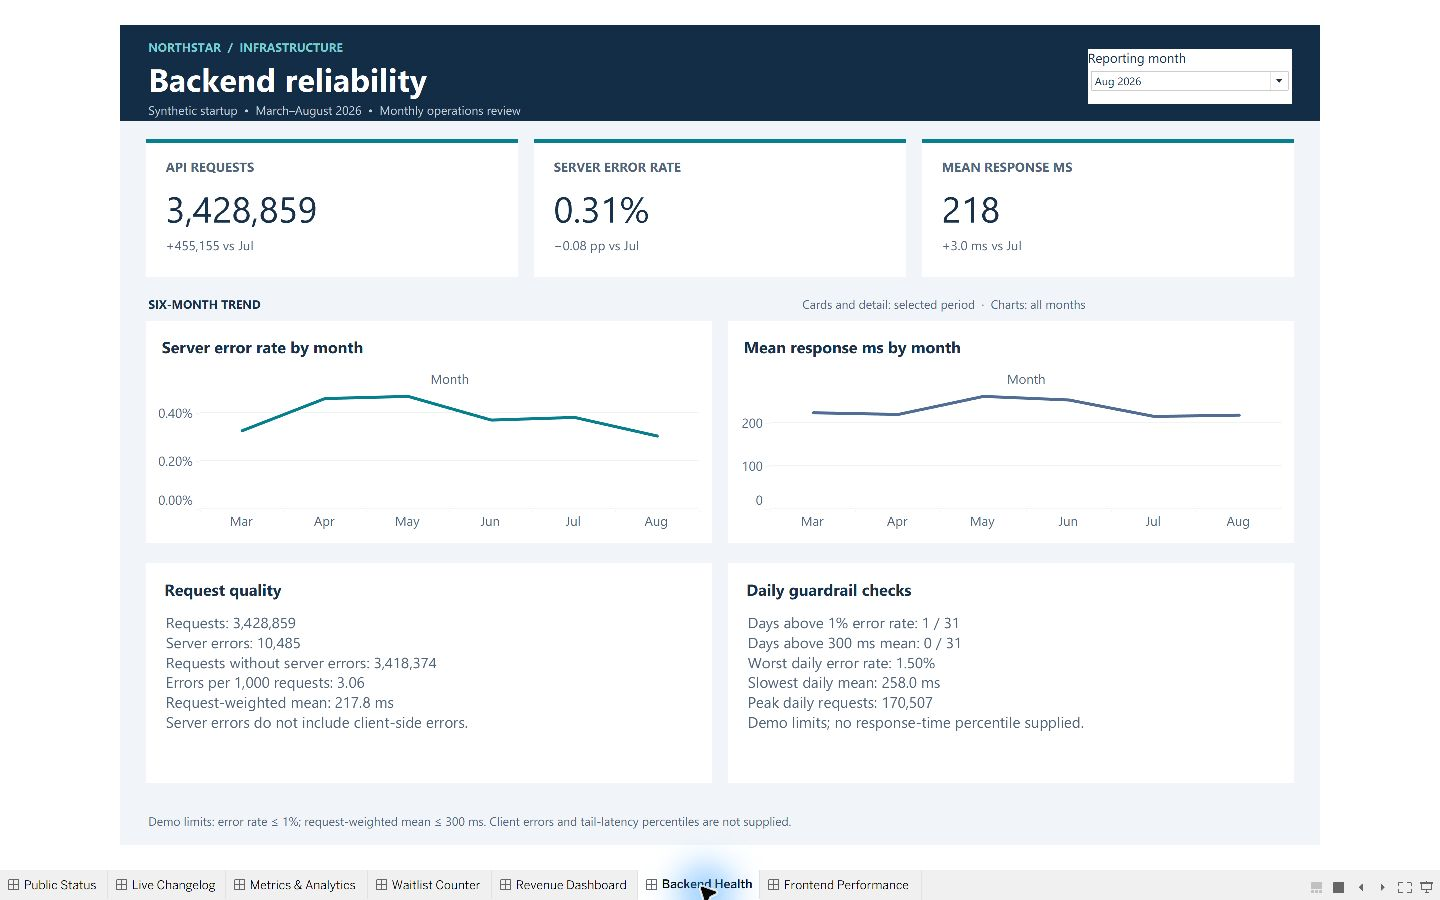

This screenshot's page, from the dashboard's own definition file:
{"tool":"tableau","page":{"name":"Backend Health","canvas":[1200,820],"ordinal":0},"visuals":[{"type":"text","box":[0,0,1200,820]},{"type":"text","box":[0,0,1200,96]},{"type":"text","box":[26,12,800,20]},{"type":"parameter","param":"[Parameters].[Period]","box":[968,24,204,55]},{"type":"text","box":[26,34,830,40]},{"type":"text","box":[26,76,840,18]},{"type":"text","box":[26,114,372,138]},{"type":"text","box":[26,114,372,4]},{"type":"text","box":[414,114,372,138]},{"type":"text","box":[414,114,372,4]},{"type":"text","box":[802,114,372,138]},{"type":"text","box":[802,114,372,4]},{"type":"worksheet","title":"06 KPI 1 API requests","mark":"Text","box":[42,129,340,74]},{"type":"worksheet","title":"06 KPI 2 Server error rate","mark":"Text","box":[430,129,340,74]},{"type":"worksheet","title":"06 KPI 3 Mean response ms","mark":"Text","box":[818,129,340,74]},{"type":"worksheet","title":"D06 delta 1","mark":"Text","box":[42,211,340,29]},{"type":"worksheet","title":"D06 delta 2","mark":"Text","box":[430,211,340,29]},{"type":"worksheet","title":"D06 delta 3","mark":"Text","box":[818,211,340,29]},{"type":"text","box":[26,268,500,22]},{"type":"text","box":[680,268,492,22]},{"type":"text","box":[26,296,566,222]},{"type":"text","box":[608,296,566,222]},{"type":"worksheet","title":"06 Trend 1","mark":"Line","rows":["history_errors"],"cols":["Month"],"box":[38,307,542,199]},{"type":"worksheet","title":"06 Trend 2","mark":"Line","rows":["history_latency"],"cols":["Month"],"box":[620,307,542,199]},{"type":"text","box":[26,538,566,220]},{"type":"text","box":[608,538,566,220]},{"type":"text","box":[42,551,534,28]},{"type":"text","box":[624,551,534,28]},{"type":"worksheet","title":"D06 detail 1","mark":"Text","box":[42,587,534,157]},{"type":"worksheet","title":"D06 detail 2","mark":"Text","box":[624,587,534,157]},{"type":"text","box":[26,776,1144,40]}]}

Visuals, with their boxes on the page's 1200x820 design canvas (x1, y1, x2, y2). These are canvas units, not pixel positions in the 1440x900 screenshot, which may show the page scaled, cropped or inside an application window:
text: crop(0, 0, 1200, 820)
text: crop(0, 0, 1200, 96)
text: crop(26, 12, 826, 32)
parameter: crop(968, 24, 1172, 79)
text: crop(26, 34, 856, 74)
text: crop(26, 76, 866, 94)
text: crop(26, 114, 398, 252)
text: crop(26, 114, 398, 118)
text: crop(414, 114, 786, 252)
text: crop(414, 114, 786, 118)
text: crop(802, 114, 1174, 252)
text: crop(802, 114, 1174, 118)
"06 KPI 1 API requests" worksheet (Text marks): crop(42, 129, 382, 203)
"06 KPI 2 Server error rate" worksheet (Text marks): crop(430, 129, 770, 203)
"06 KPI 3 Mean response ms" worksheet (Text marks): crop(818, 129, 1158, 203)
"D06 delta 1" worksheet (Text marks): crop(42, 211, 382, 240)
"D06 delta 2" worksheet (Text marks): crop(430, 211, 770, 240)
"D06 delta 3" worksheet (Text marks): crop(818, 211, 1158, 240)
text: crop(26, 268, 526, 290)
text: crop(680, 268, 1172, 290)
text: crop(26, 296, 592, 518)
text: crop(608, 296, 1174, 518)
"06 Trend 1" worksheet (Line marks): crop(38, 307, 580, 506)
"06 Trend 2" worksheet (Line marks): crop(620, 307, 1162, 506)
text: crop(26, 538, 592, 758)
text: crop(608, 538, 1174, 758)
text: crop(42, 551, 576, 579)
text: crop(624, 551, 1158, 579)
"D06 detail 1" worksheet (Text marks): crop(42, 587, 576, 744)
"D06 detail 2" worksheet (Text marks): crop(624, 587, 1158, 744)
text: crop(26, 776, 1170, 816)
